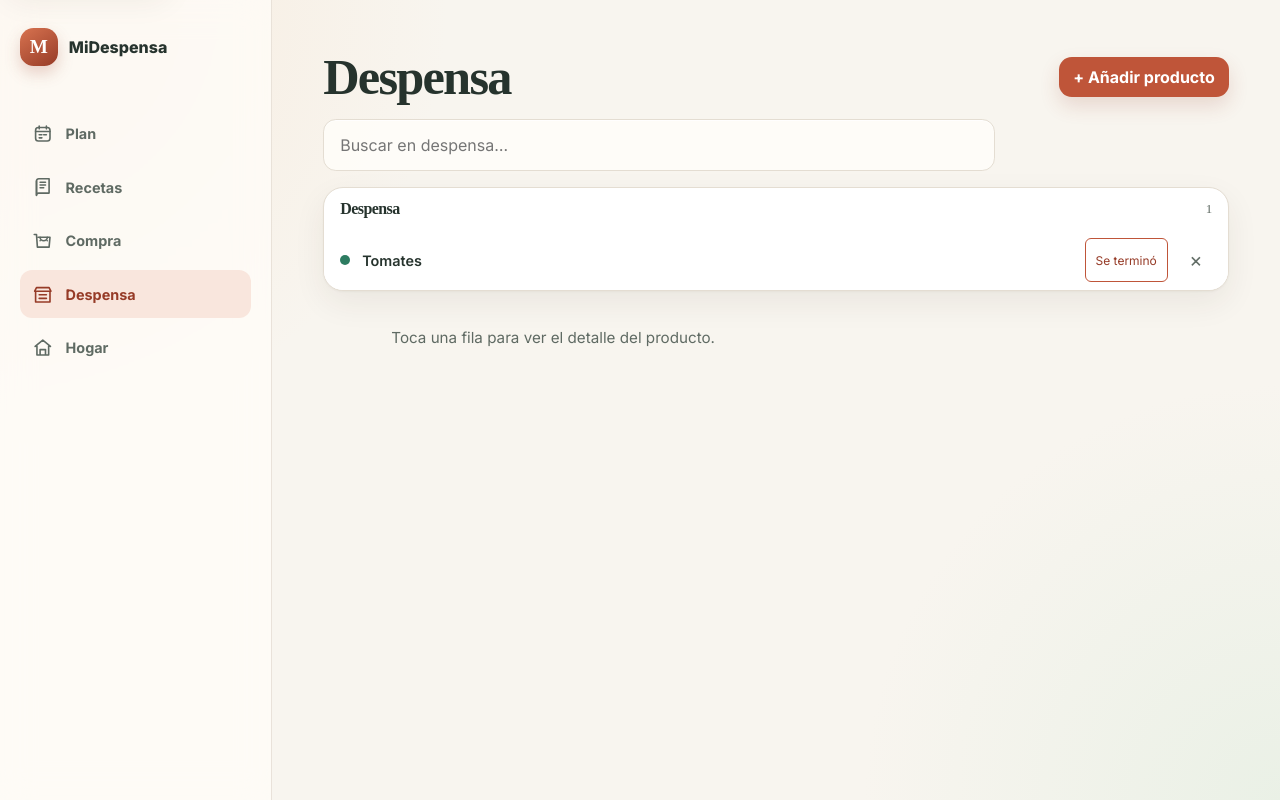
Test case: PantryWorkspace › dismisses the finished-item toast after adding it to the shopping list
This screenshot has width=1280, height=800.
Click the button with aria-label "Marcar Tomates como terminado" at (1126, 260), box x1=1084 y1=238 x2=1168 y2=282
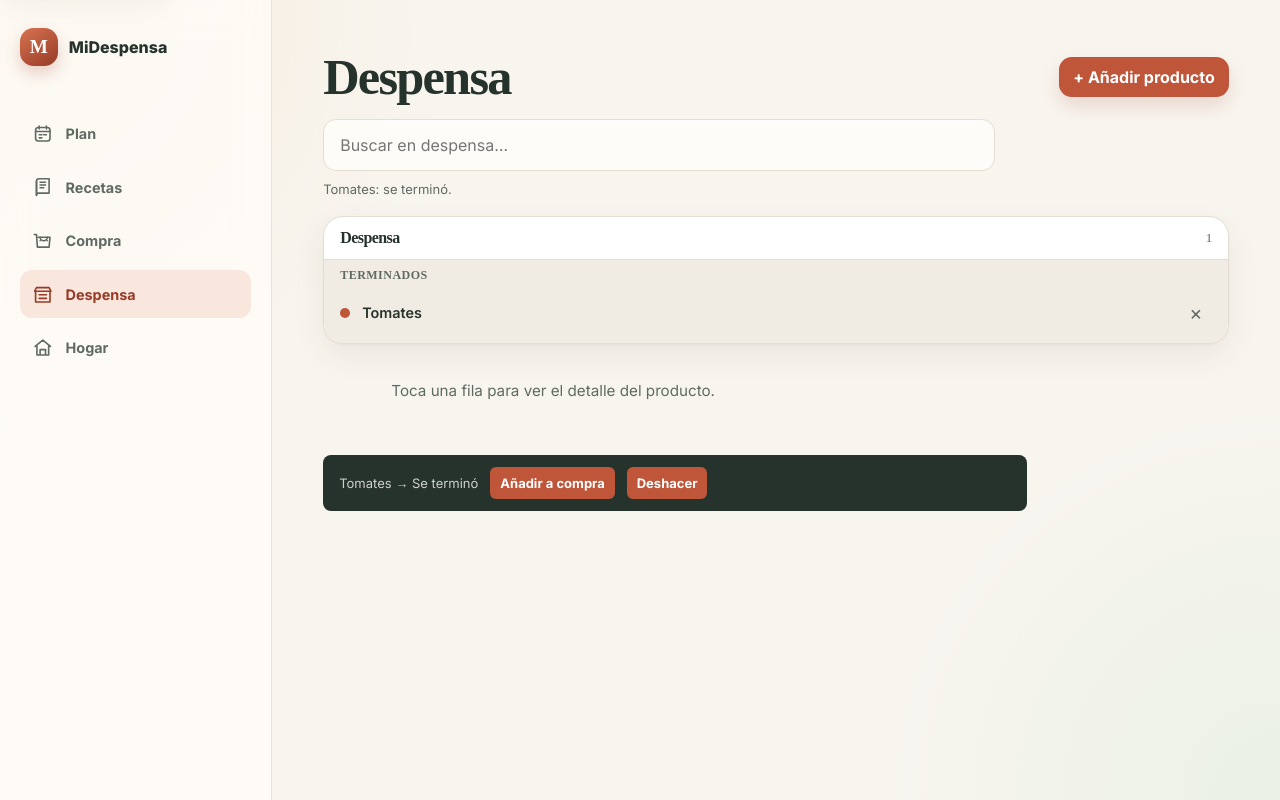
Expected: the button "Añadir a compra" is shown
Click the button "Añadir a compra" at (552, 483), box x1=490 y1=467 x2=615 y2=499
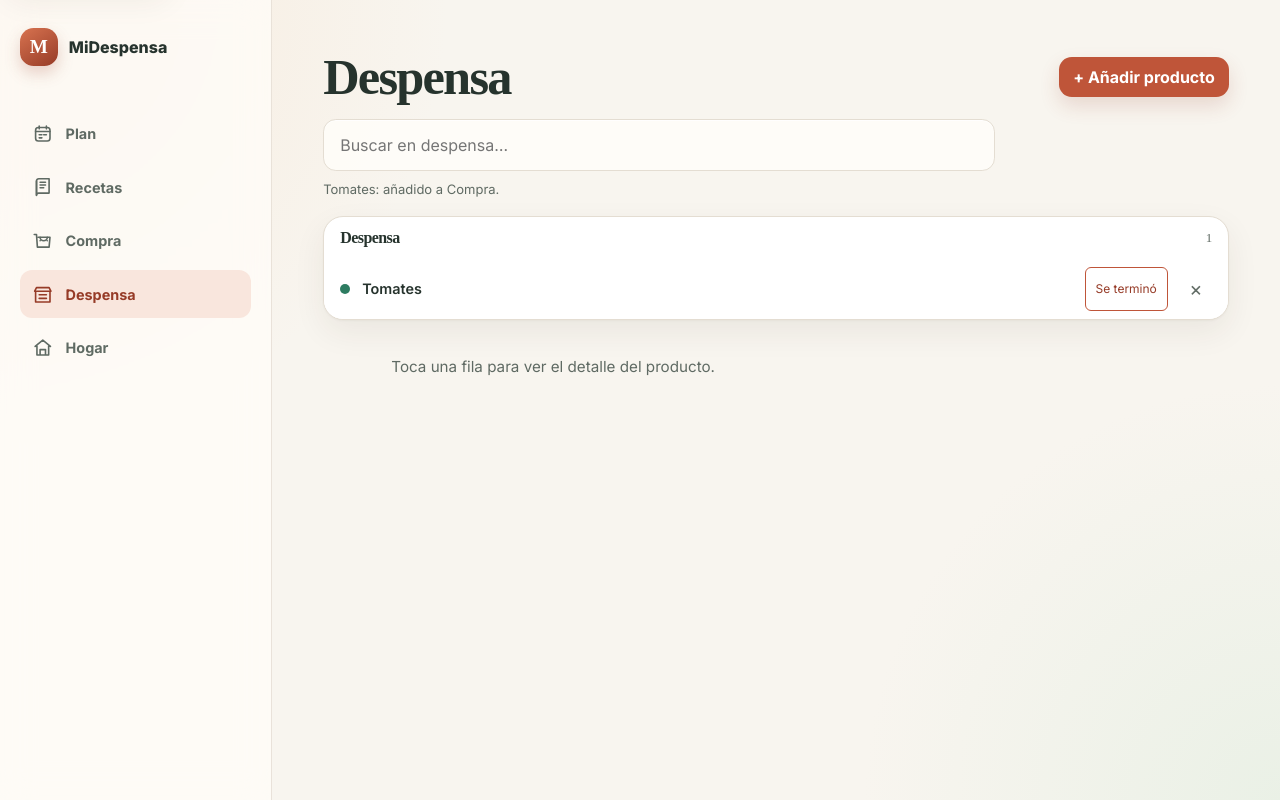
Expected: the button "Añadir a compra" is gone
